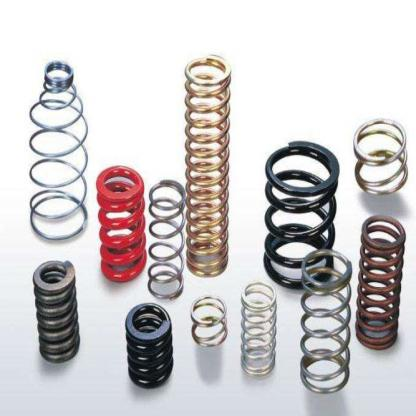FOD: (261, 138, 340, 292), (30, 54, 89, 248), (184, 54, 232, 280), (296, 246, 354, 396), (354, 212, 407, 350), (93, 164, 147, 284), (32, 257, 82, 366), (122, 299, 177, 392), (351, 112, 409, 200), (146, 178, 186, 301), (239, 278, 279, 379), (190, 290, 230, 351)
